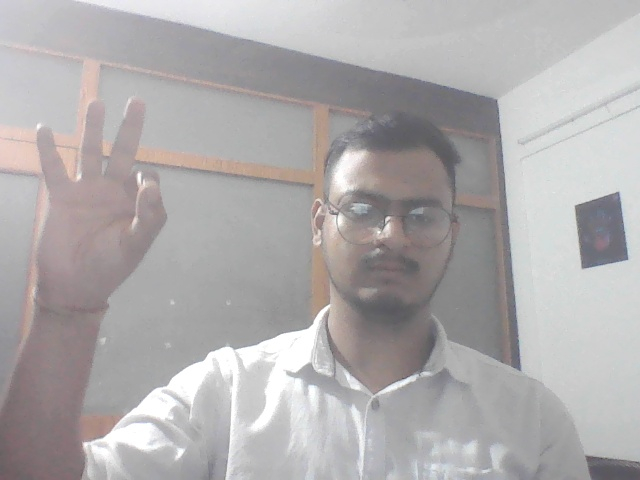OK: (25, 93, 176, 322)
